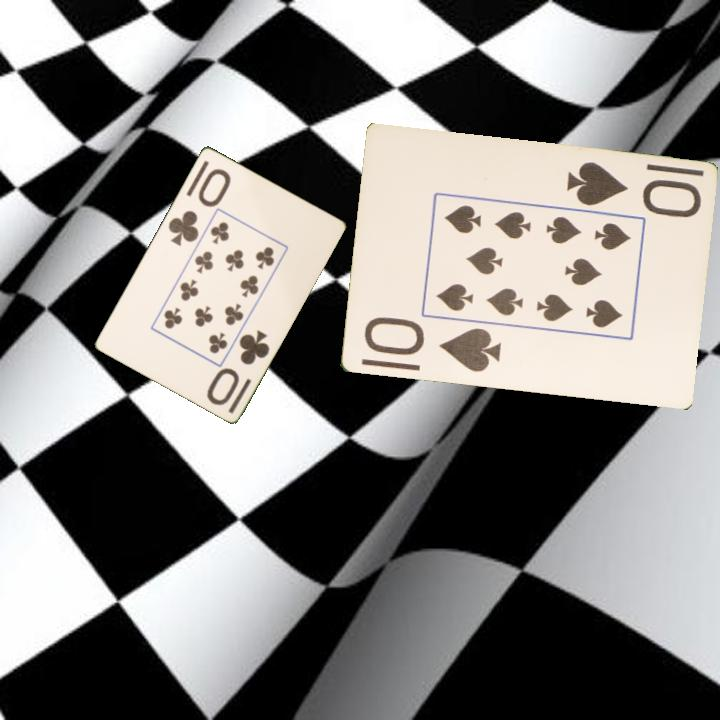10c: (164, 164, 234, 249), (204, 326, 273, 408)
10s: (359, 313, 503, 376), (562, 158, 704, 220)
